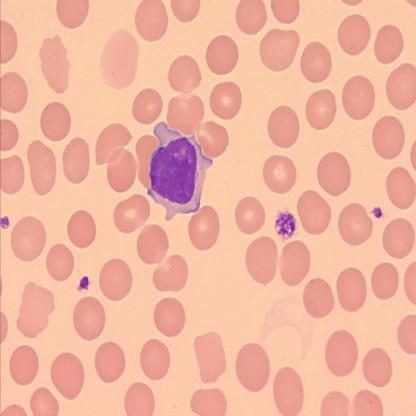Atypical lymphocyte: (145, 119, 214, 221)
